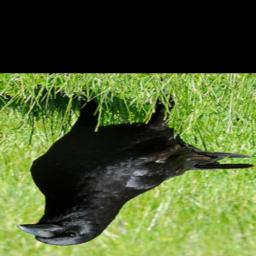Crow: (14, 93, 254, 247)
